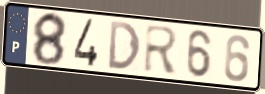4: (73, 18, 100, 68)
6: (185, 29, 215, 80), (223, 32, 252, 83)
8: (31, 10, 69, 68)
D: (107, 19, 142, 72)
R: (142, 23, 181, 76)
